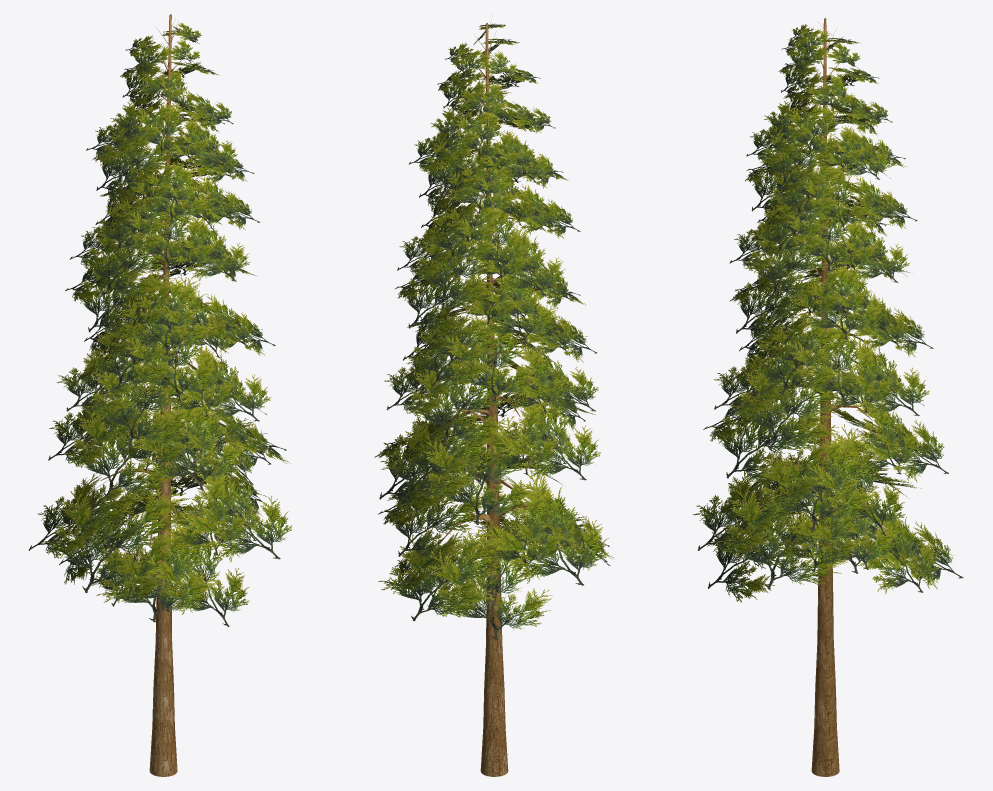
3 renders of one model, left to right at view 1: azimuth 30°, elevation 25°; view 2: azimuth 150°, elevation 25°; view 3: azimuth 270°, elevation 25°, orthographic.
Parts seen in each view (by area): view 1: Pine_1_13; view 2: Pine_1_13; view 3: Pine_1_13.
Part boxes in pixels (x1=…): Pine_1_13: x1=28, y1=14, x2=292, y2=776; Pine_1_13: x1=374, y1=22, x2=614, y2=776; Pine_1_13: x1=693, y1=18, x2=963, y2=776.
Size of the model in its own units: 26.06 by 72.52 by 26.9.
Materials: 2 (2 with a texture image).
